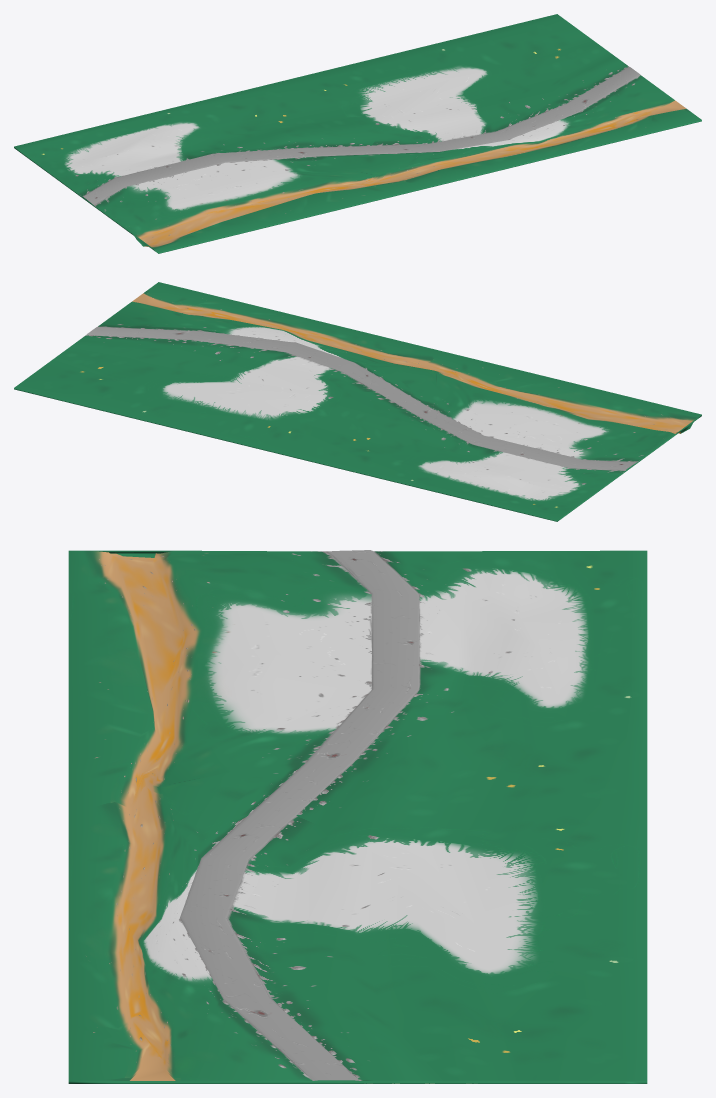
The model's file is grounduv.FBX.
The picture shows the model from 3 angles, top to bottom: view 1: azimuth 30°, elevation 25°; view 2: azimuth 150°, elevation 25°; view 3: azimuth 270°, elevation 25°; orthographic projection. The views are drawn at different scales.
Parts seen in each view (by area): view 1: Box001; view 2: Box001; view 3: Box001.
Boxes of the visible parts, x1,y1,x2,y2 form: Box001: (14, 14, 701, 253); Box001: (14, 282, 701, 521); Box001: (68, 550, 647, 1083).
Size of the model in its own units: 474 by 5.44 by 218.
1 material, 1 textured.
